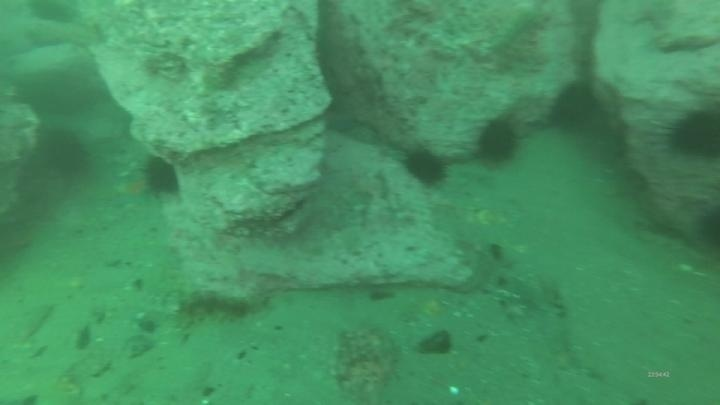echinus: (663, 103, 720, 162), (38, 126, 92, 179), (548, 80, 601, 133), (474, 116, 522, 167), (401, 145, 450, 188), (140, 154, 183, 199), (25, 1, 80, 27), (694, 203, 720, 253)
holothurian: (172, 288, 263, 329)
starfish: (111, 171, 154, 209)
